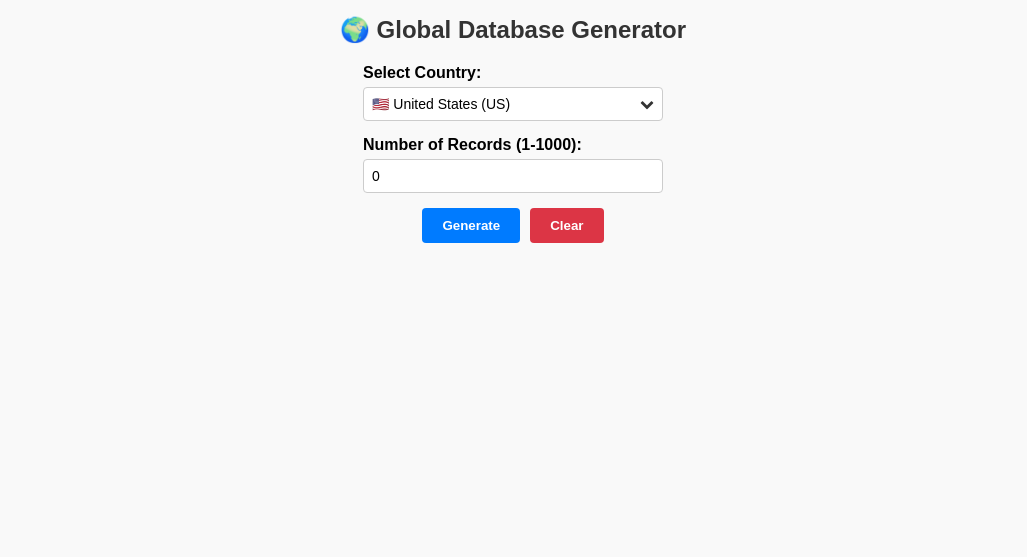
Scenario: clears generated data when "Clear" button is clicked
The width and height of the screenshot is (1027, 557).
Replace the text in the number field labelled "Number of Records (1-1000):" with "5" at (513,176), box [363,159,663,193]
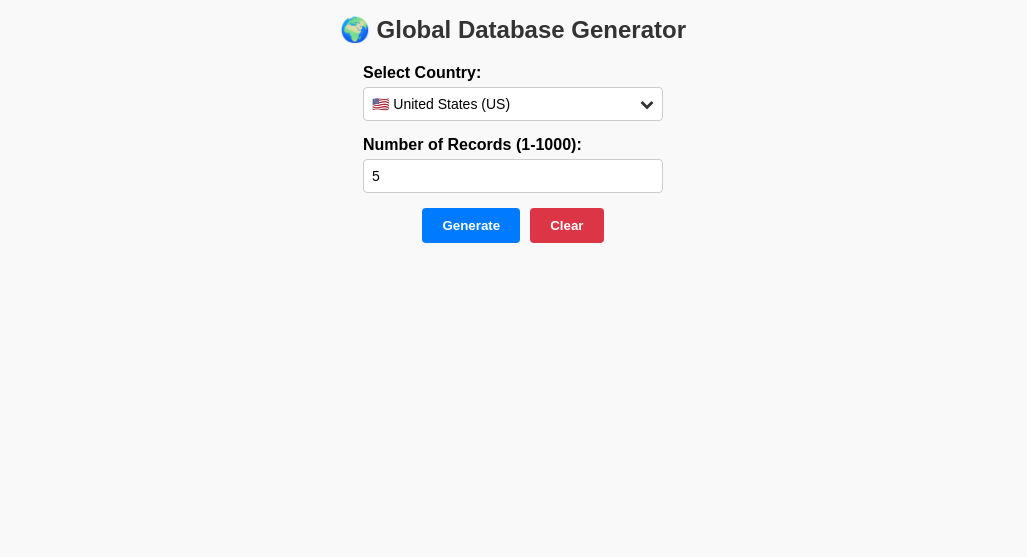
Click the button "Generate" at (471,226), box [422,208,520,243]
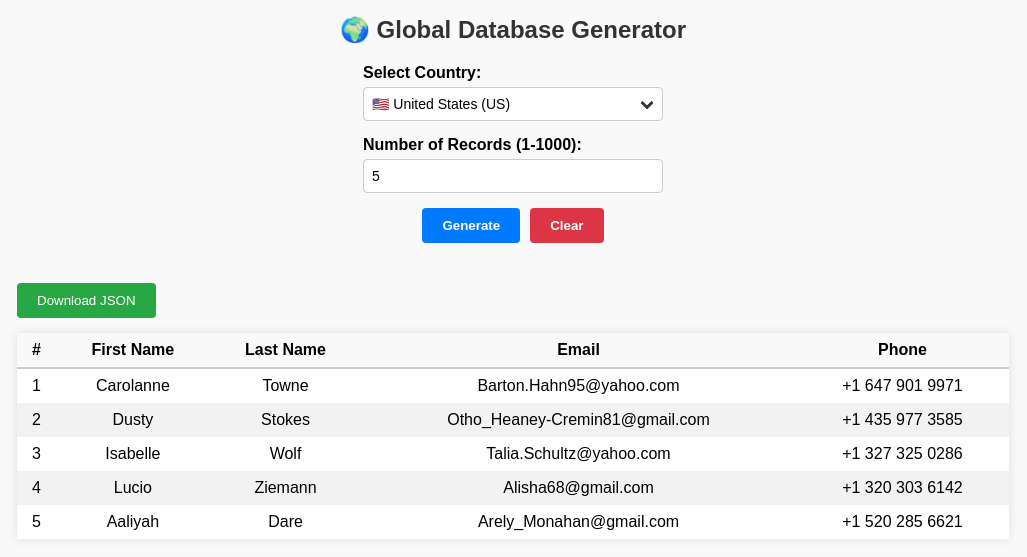
Expected: the table is shown, [17,333,1009,539]
Click the button "Clear" at (567,226), box [530,208,604,243]
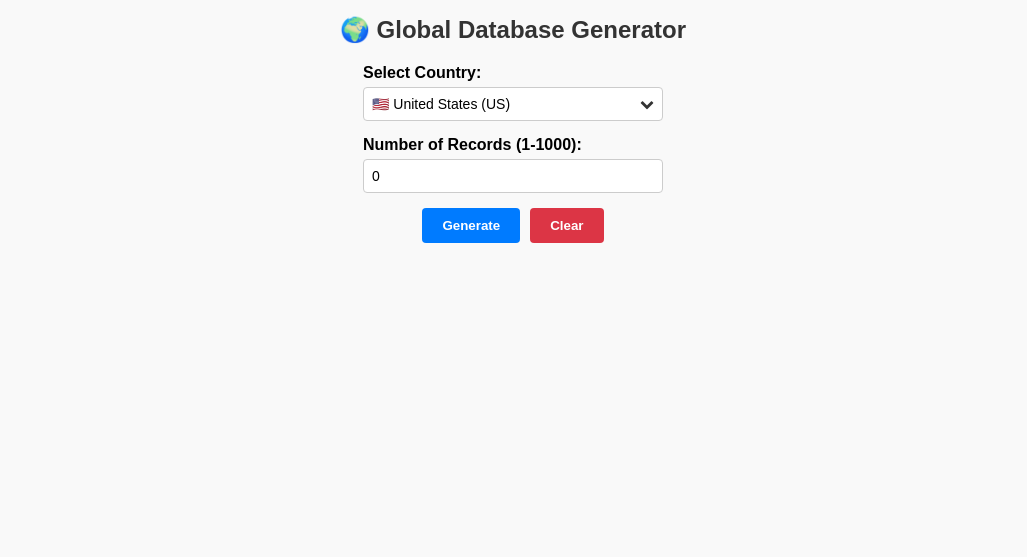
Expected: the table is gone
